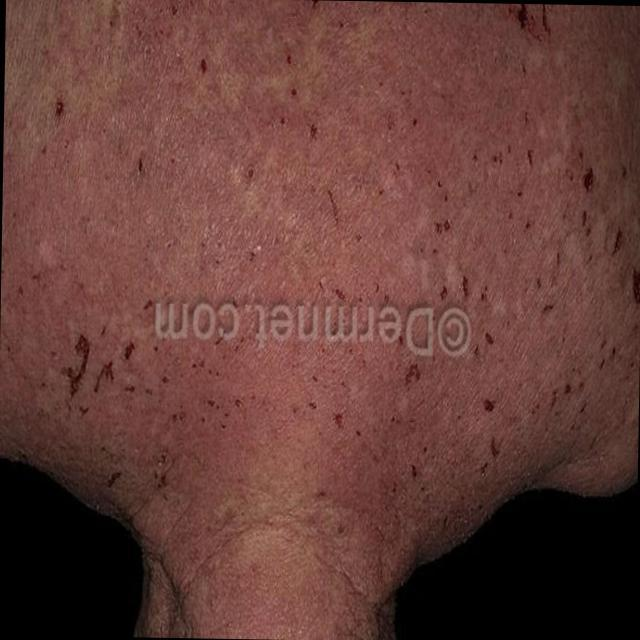Eczema: (42, 0, 638, 504)
